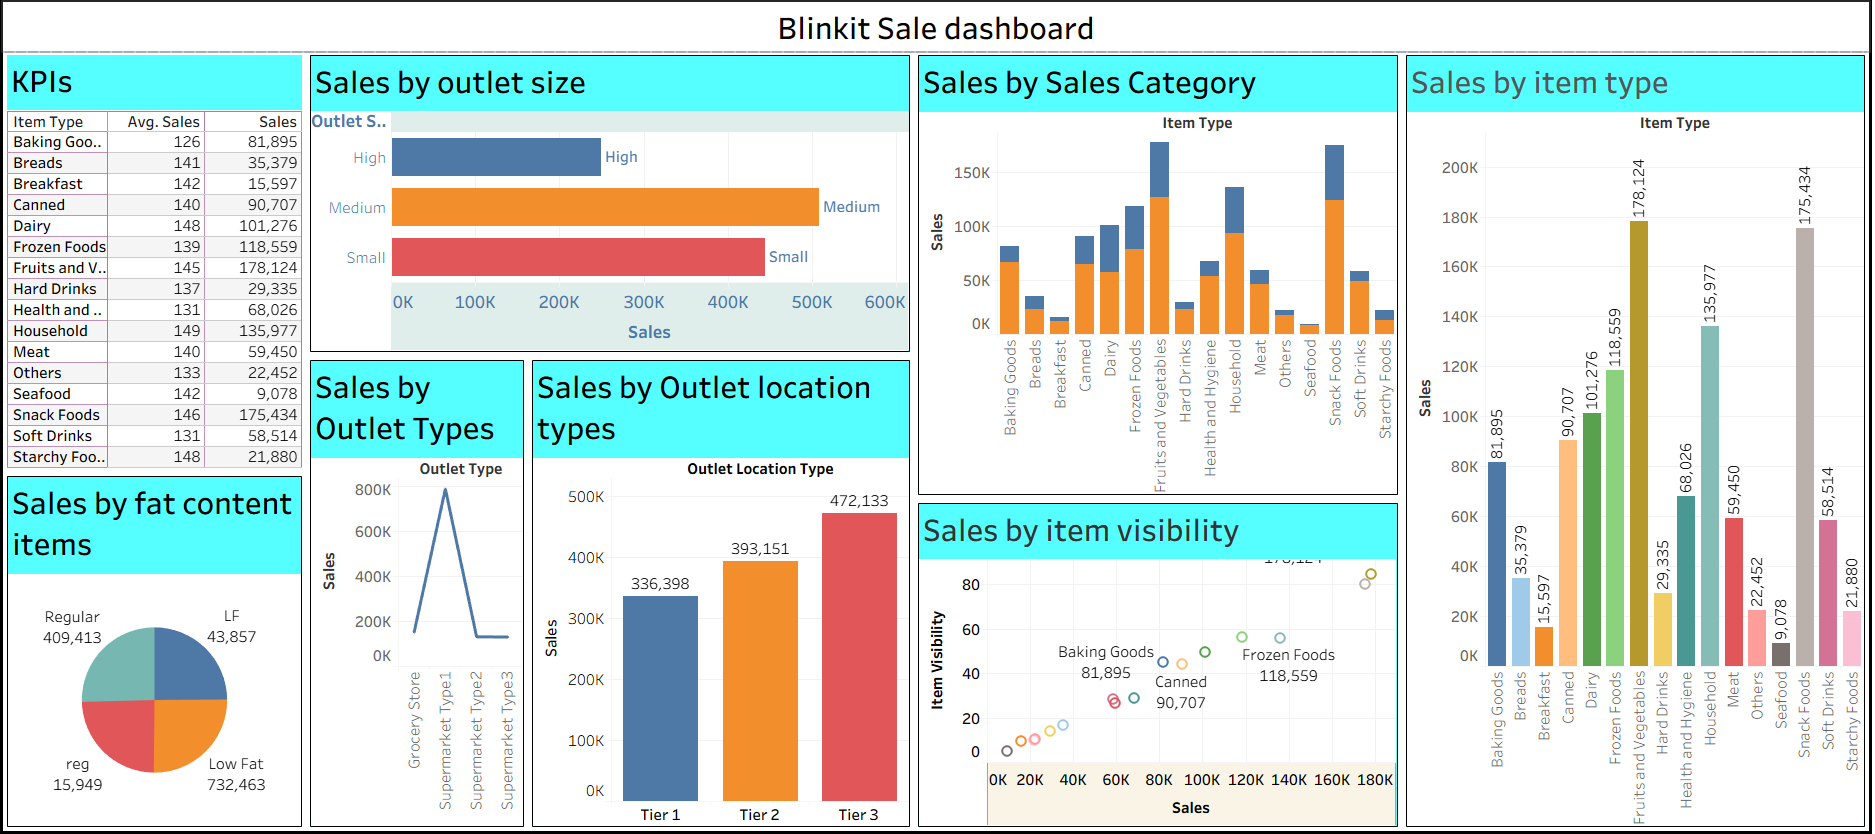

The dashboard page shown, as its layout file describes it:
{"tool":"tableau","page":{"name":"Blinkit Sale dashboard","canvas":[1000,1000],"units":"permille","ordinal":0},"visuals":[{"type":"worksheet","title":"KPIs","mark":"Automatic","rows":["Item Type"],"box":[4.8,9.4,182.9,487.7]},{"type":"worksheet","title":"Sales by outlet size","mark":"Automatic","rows":["Outlet Size"],"cols":["Sales"],"box":[187.7,9.4,366.9,383.7]},{"type":"worksheet","title":"Sales by Sales Category","mark":"Automatic","rows":["Sales"],"cols":["Item Type"],"box":[554.6,9.4,294.5,558.8]},{"type":"worksheet","title":"Sales by item type","mark":"Automatic","rows":["Sales"],"cols":["Item Type"],"box":[849.1,9.4,146,981.2]},{"type":"worksheet","title":"Sales by Outlet Types","mark":"Line","rows":["Sales"],"cols":["Outlet Type"],"box":[187.7,393.1,134,597.5]},{"type":"worksheet","title":"Sales by Outlet location types","mark":"Automatic","rows":["Sales"],"cols":["Outlet Location Type"],"box":[321.7,393.1,233,597.5]},{"type":"worksheet","title":"Sales by fat content items","mark":"Pie","box":[4.8,497.1,182.9,493.5]},{"type":"worksheet","title":"Sales by item visibility","mark":"Automatic","rows":["Item Visibility"],"cols":["Sales"],"box":[554.6,568.1,294.5,422.4]}]}

Visuals, with their boxes on the dashboard's canvas, which has no fixed pixel size, in thousandths of its width and height (x1, y1, x2, y2). These are canvas units, not pixel positions in the 1875x834 screenshot, which may show the page scaled, cropped or inside an application window:
"KPIs" worksheet: bbox=[5, 9, 188, 497]
"Sales by outlet size" worksheet: bbox=[188, 9, 555, 393]
"Sales by Sales Category" worksheet: bbox=[555, 9, 849, 568]
"Sales by item type" worksheet: bbox=[849, 9, 995, 991]
"Sales by Outlet Types" worksheet (Line marks): bbox=[188, 393, 322, 991]
"Sales by Outlet location types" worksheet: bbox=[322, 393, 555, 991]
"Sales by fat content items" worksheet (Pie marks): bbox=[5, 497, 188, 991]
"Sales by item visibility" worksheet: bbox=[555, 568, 849, 990]
